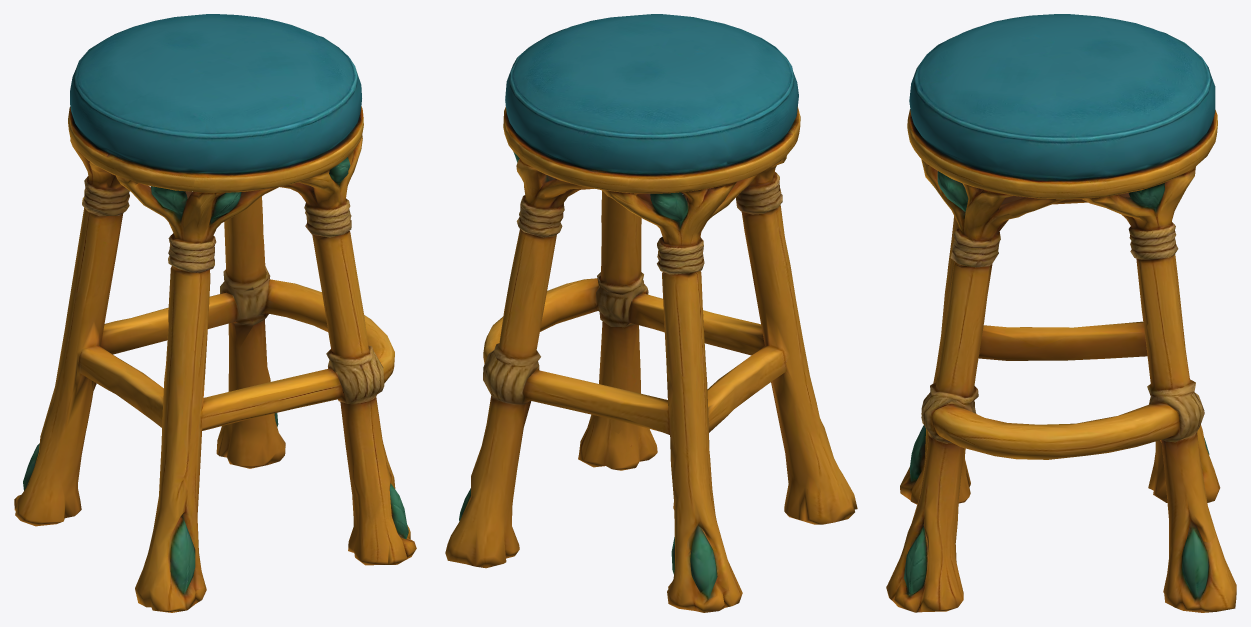
File: SM_House_BarStool.glb
3 renders of one model, left to right at view 1: azimuth 30°, elevation 25°; view 2: azimuth 150°, elevation 25°; view 3: azimuth 270°, elevation 25°, orthographic. The views are drawn at different scales.
Parts seen in each view (by area): view 1: tripo_node_1eceb73c-0bdf-4447-b331-97740ee892f3; view 2: tripo_node_1eceb73c-0bdf-4447-b331-97740ee892f3; view 3: tripo_node_1eceb73c-0bdf-4447-b331-97740ee892f3.
Part boxes in pixels (left/top/right/bottom): tripo_node_1eceb73c-0bdf-4447-b331-97740ee892f3: left=14, top=14, right=416, bottom=612; tripo_node_1eceb73c-0bdf-4447-b331-97740ee892f3: left=445, top=14, right=857, bottom=612; tripo_node_1eceb73c-0bdf-4447-b331-97740ee892f3: left=886, top=14, right=1236, bottom=612.
Size of the model in its own units: 0.6407 by 1 by 0.6429.
1 material, 1 textured.
